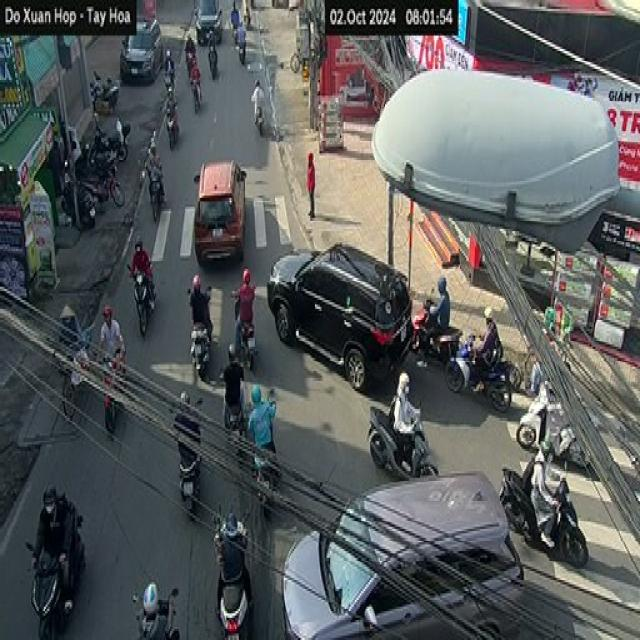car: (275, 491, 534, 640), (277, 230, 408, 390), (195, 156, 250, 280), (121, 17, 168, 86), (193, 0, 225, 47)
motorcycle: (507, 469, 589, 553), (29, 541, 95, 626), (366, 412, 432, 482), (446, 341, 506, 395), (411, 310, 458, 376), (516, 398, 576, 446), (211, 575, 251, 640), (511, 342, 568, 386), (219, 386, 253, 458), (169, 451, 207, 514), (232, 310, 274, 366), (81, 165, 126, 204), (129, 277, 156, 337), (54, 183, 94, 221), (92, 126, 128, 168), (186, 323, 210, 380), (148, 168, 165, 228), (202, 50, 227, 82), (88, 66, 116, 92), (94, 88, 124, 112), (248, 439, 264, 484), (164, 110, 182, 150), (251, 102, 270, 139), (158, 72, 180, 94), (234, 42, 254, 63), (189, 82, 201, 111)
person: (39, 483, 77, 616), (532, 438, 557, 556), (219, 508, 246, 580), (248, 382, 273, 458), (174, 392, 198, 466), (136, 581, 167, 638), (389, 371, 410, 455), (99, 304, 123, 368), (59, 301, 81, 366), (225, 343, 244, 418), (190, 276, 211, 342), (128, 237, 148, 301), (482, 308, 500, 368), (304, 151, 318, 225), (238, 266, 256, 323), (436, 278, 453, 332), (147, 138, 162, 187), (165, 78, 178, 123), (254, 74, 263, 114)
